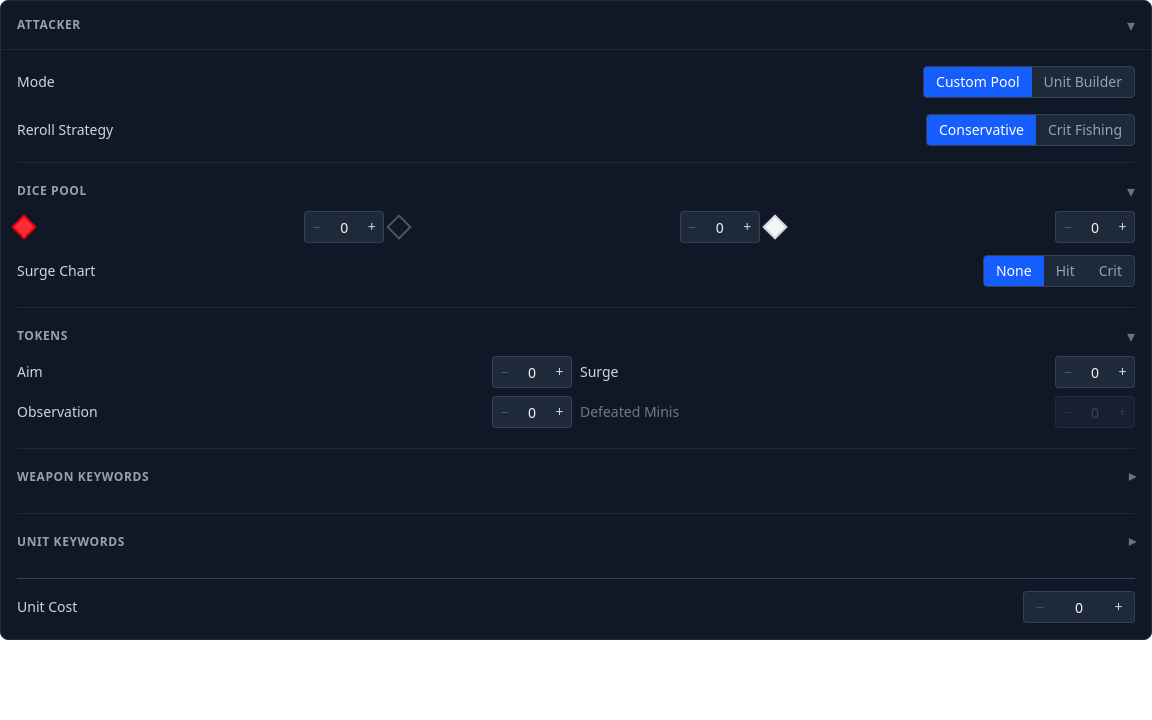
Test case: AttackerPanel › renders upgrade slots section in unit-builder mode
The width and height of the screenshot is (1152, 720).
Click the radio button labelled "Unit Builder".
click(1083, 82)  # box [1032,67,1134,97]
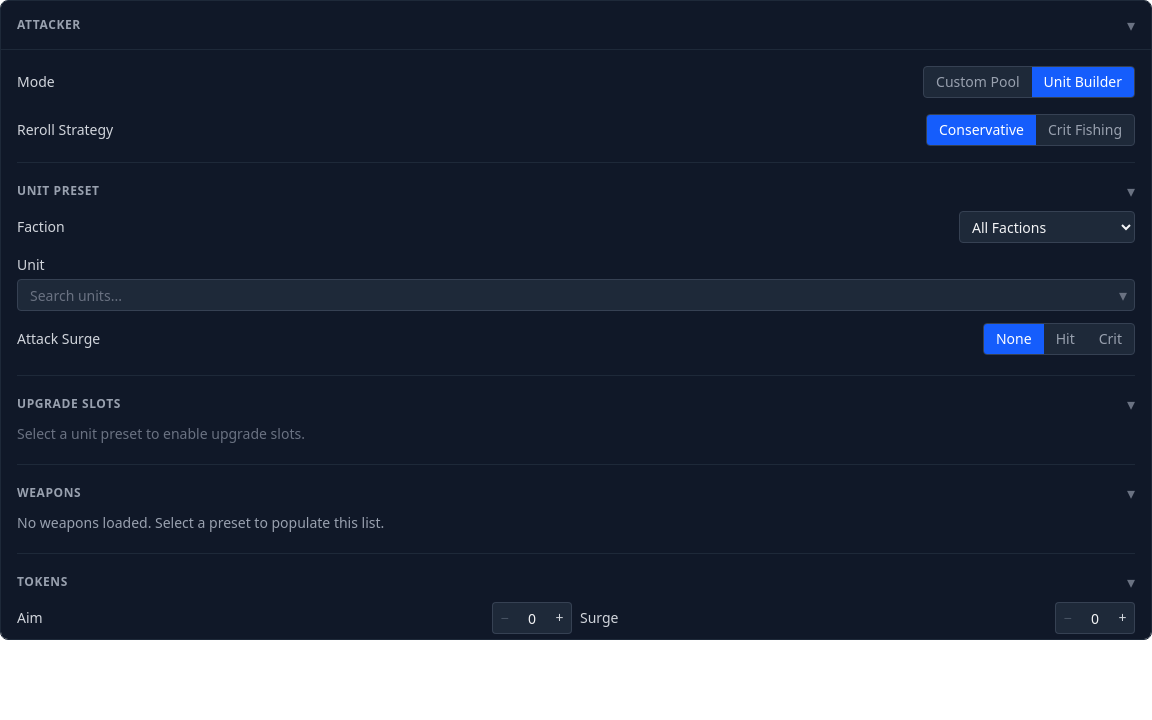
expect the text "Upgrade Slots" is shown: met, box [17,396,121,412]
